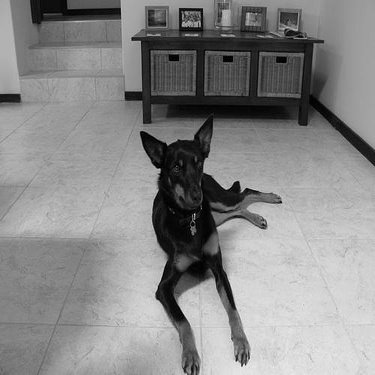dog: (124, 108, 289, 373)
